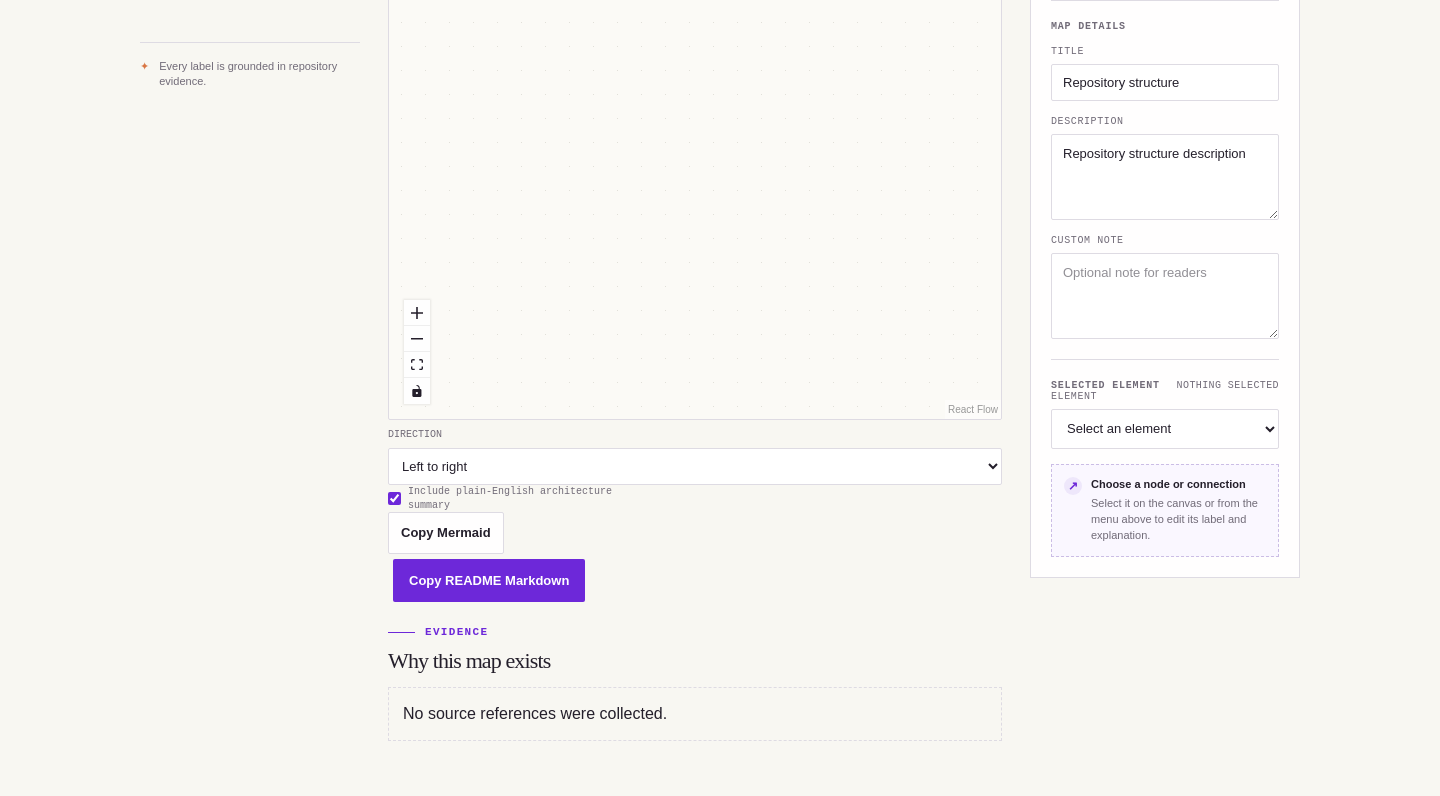
Scenario: RepoAnalysis diagram navigation › falls back to the diagram already loaded in the workspace when the export store misses it
The image size is (1440, 796).
(page scrolled)
Click the button "Copy README Markdown" at coordinates (489, 581), box [393, 559, 585, 602]
(page scrolled)
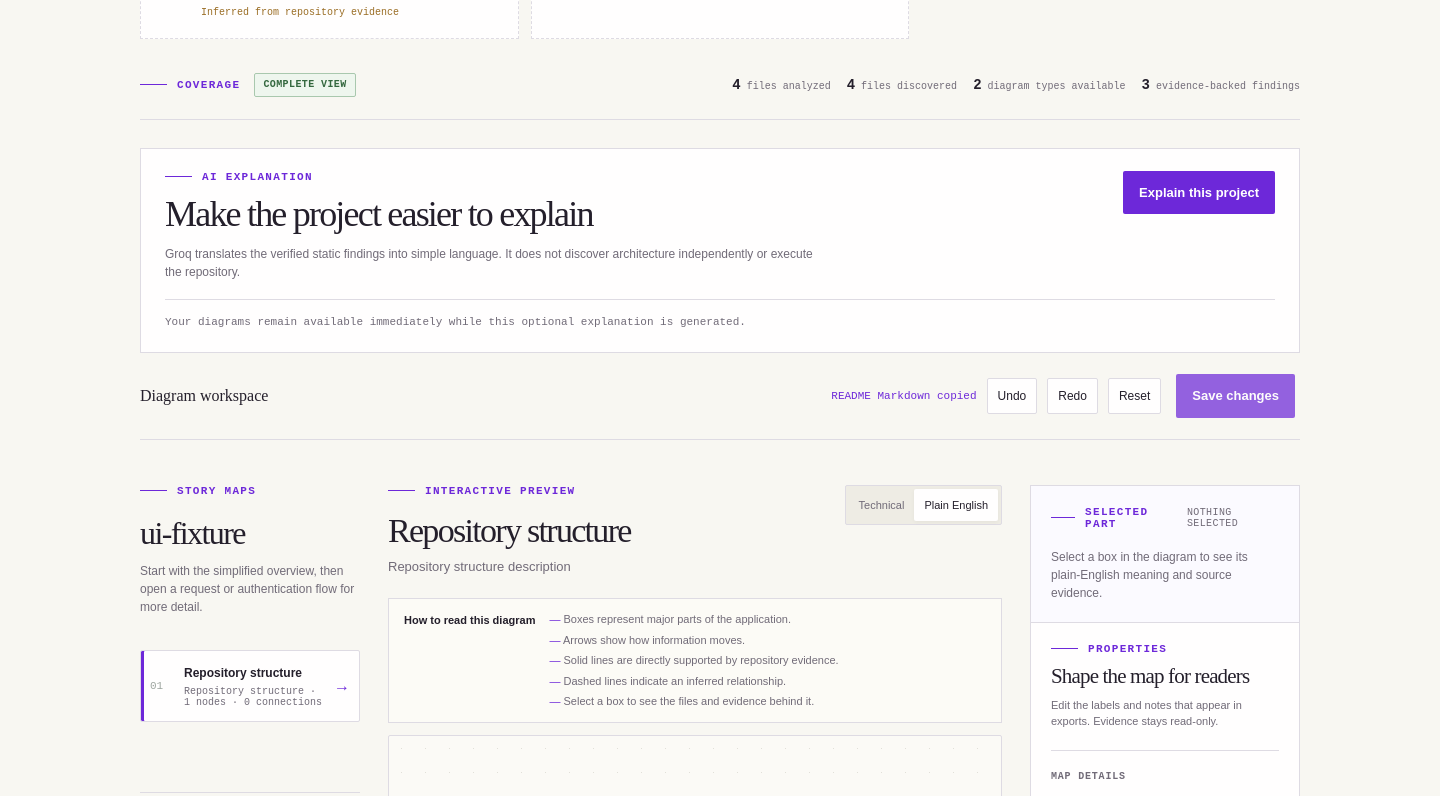
Expected: the text "README Markdown copied" is shown, [831, 390, 976, 402]
